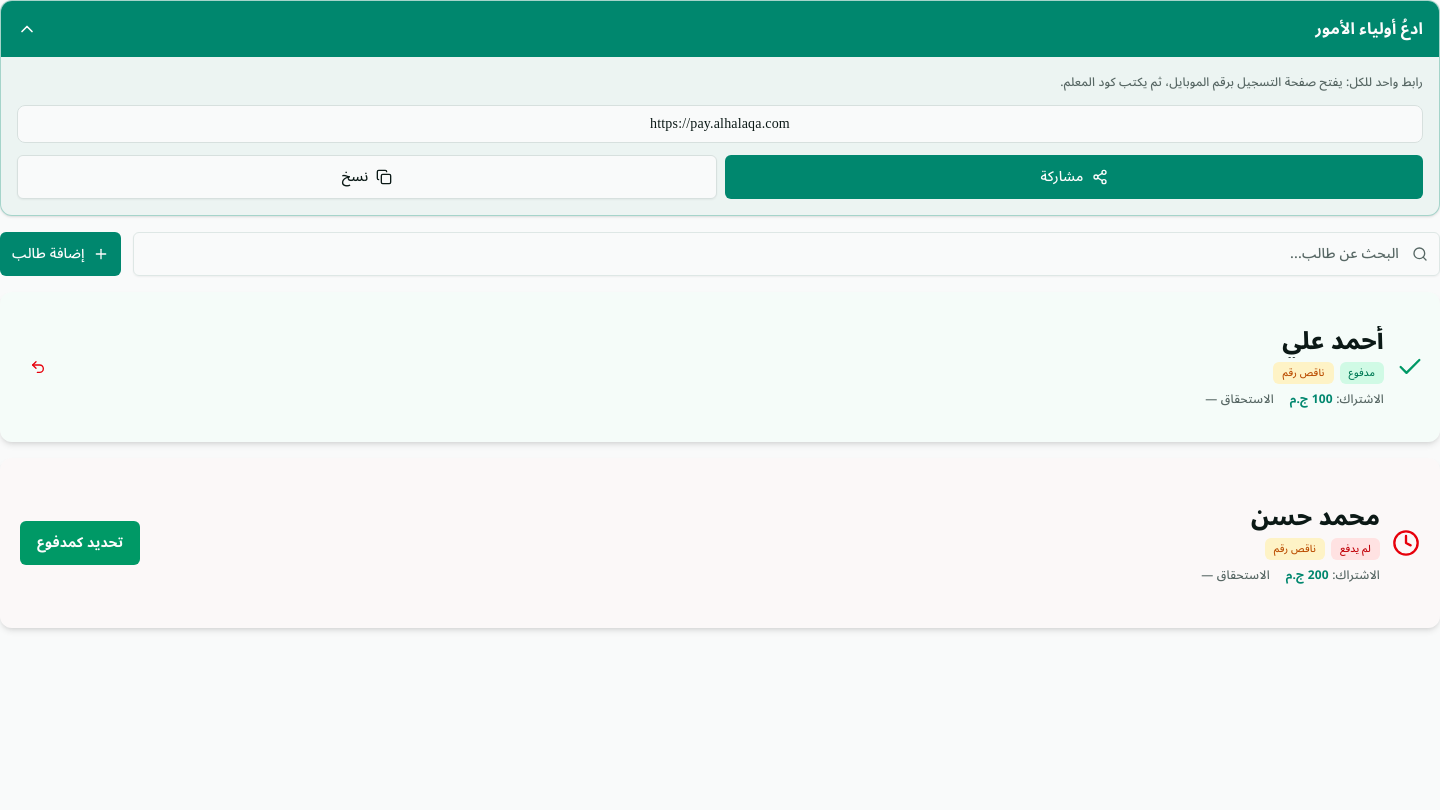
Scenario: StudentList (merged home) › confirming undo closes the dialog (no haunting later toggles)
This screenshot has width=1440, height=810.
Click the button with test id "undo-s1" at point(38, 367), box [16, 345, 60, 389]
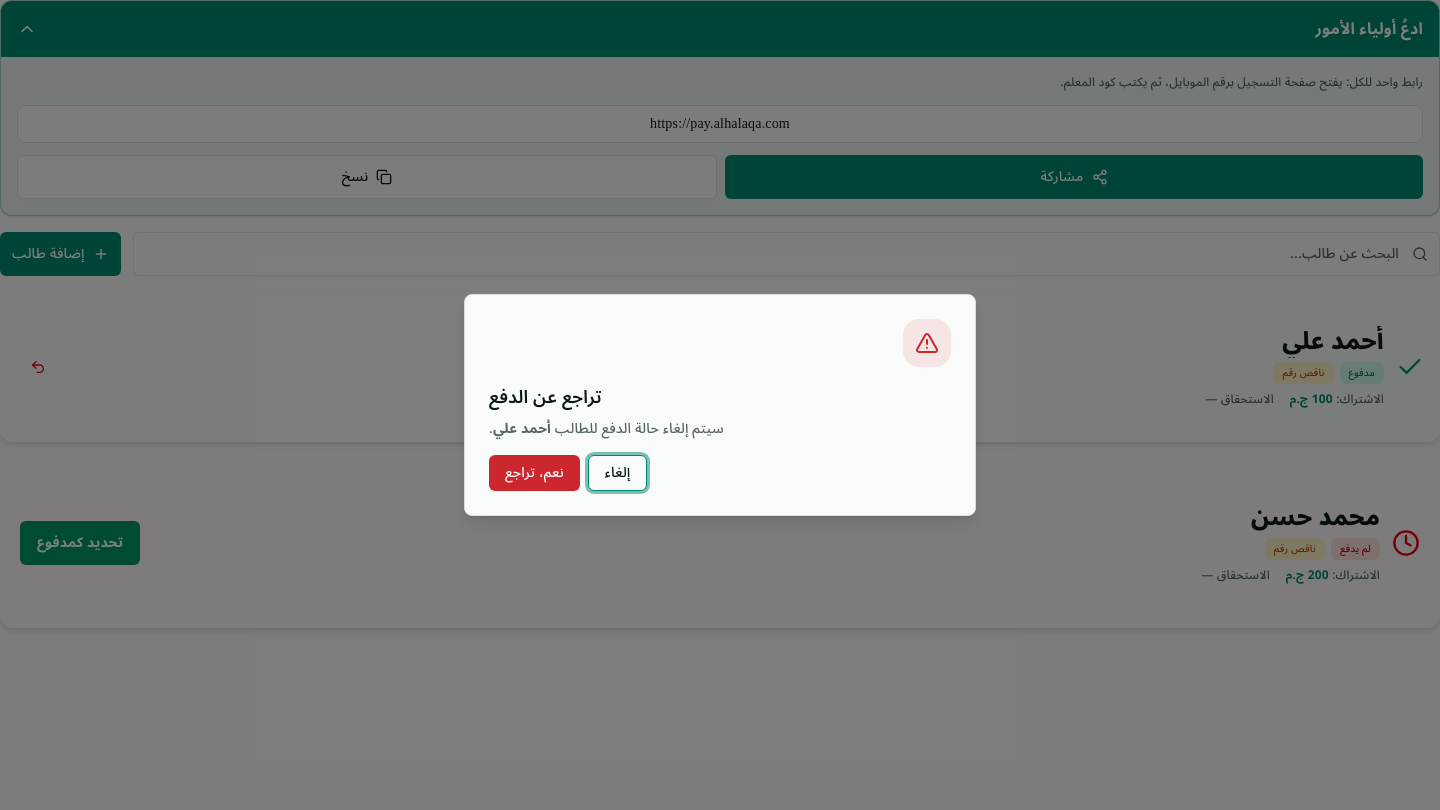
Check: the heading "تراجع عن الدفع" is shown, box [489, 378, 602, 416]
Click the button "نعم، تراجع" at point(534, 473), box [489, 455, 580, 491]
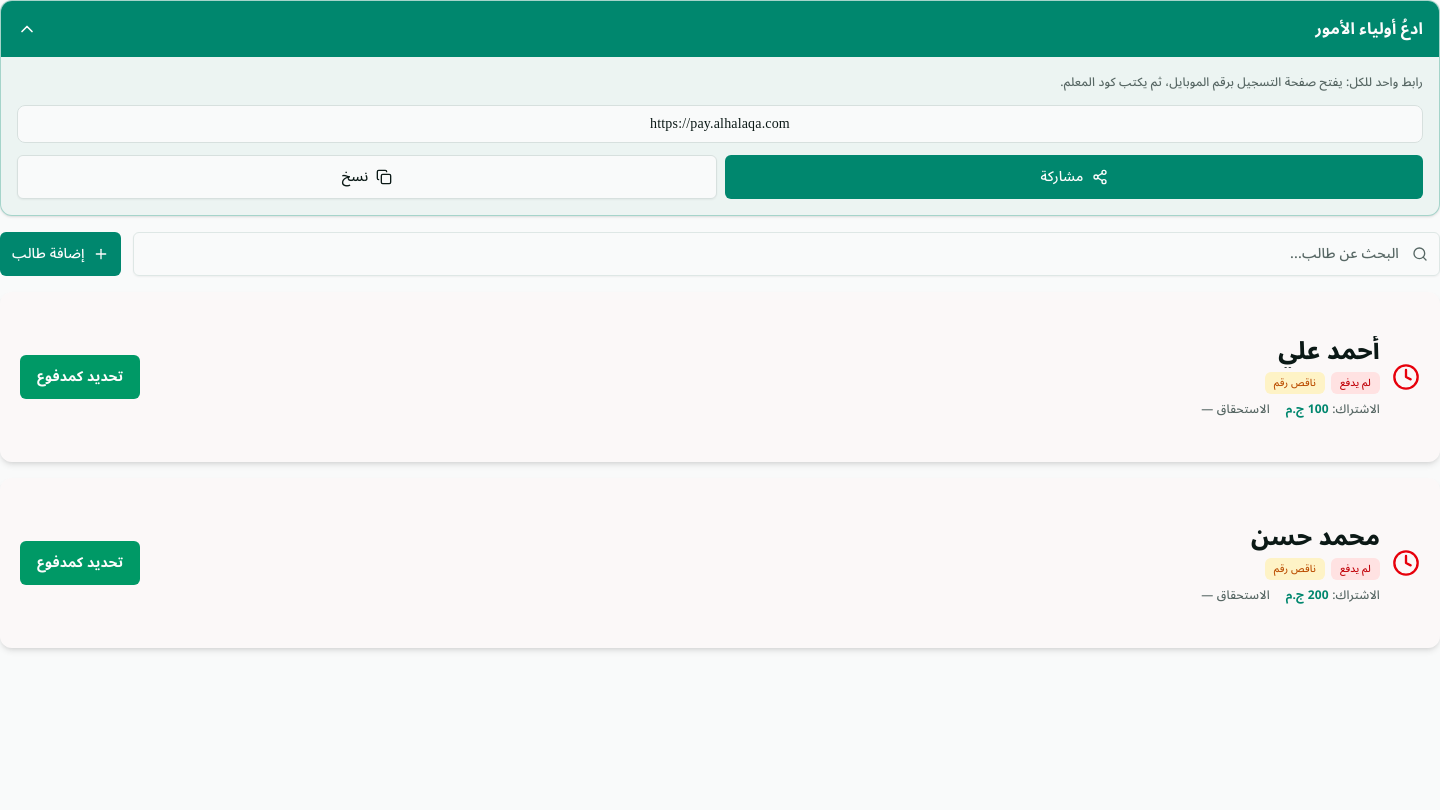
Check: the button "تحديد كمدفوع" in the row of "محمد حسن" is shown, box [20, 541, 140, 585]
Check: the heading "تراجع عن الدفع" is gone
